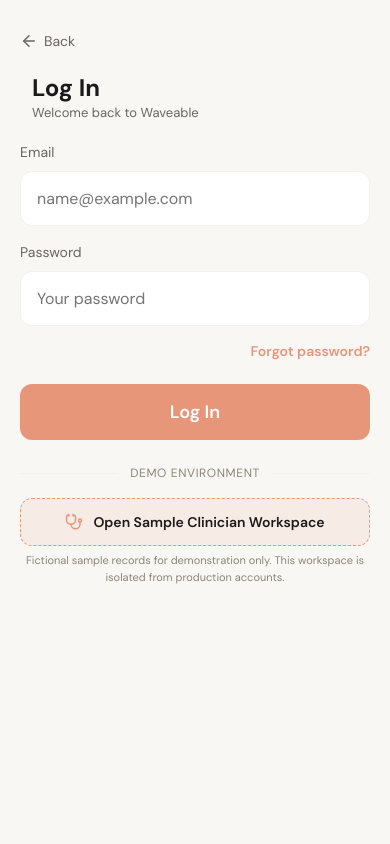
Scenario: Login password reset › points a login lockout to the visible reset action
Type "person@example.test" into the field labelled "Email".
click(195, 199); type("person@example.test")  # box [20,171,370,226]
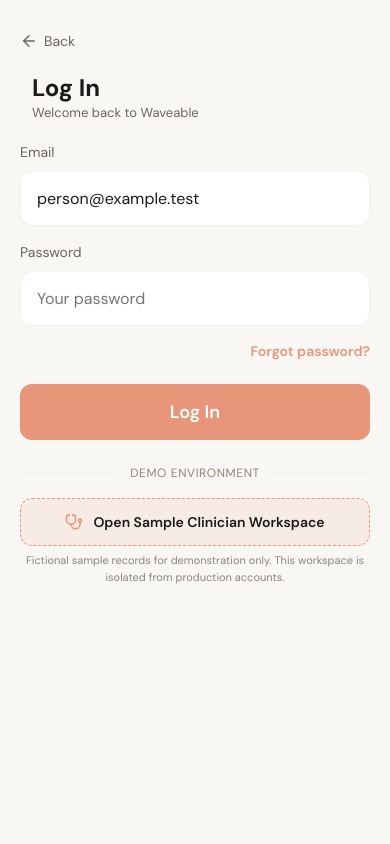
Type "wrong" into the password field labelled "Password".
click(195, 299); type("wrong")  # box [20,271,370,326]
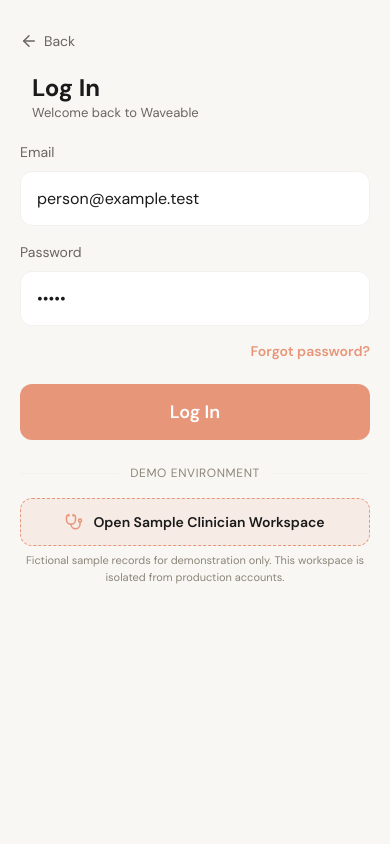
Submit the form, box [20,142,370,440]
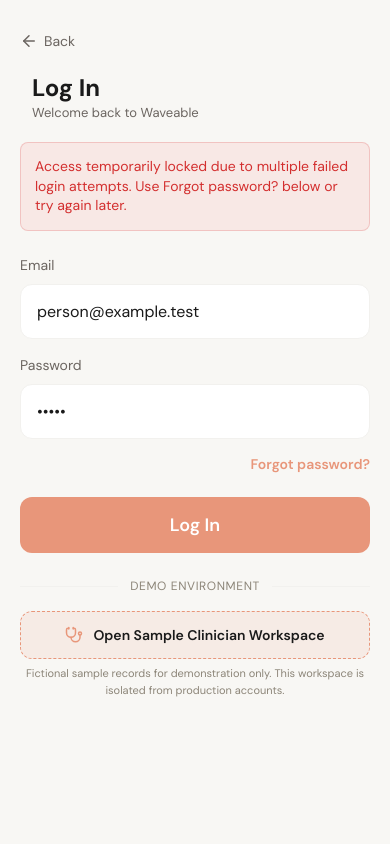
Expected: the message shows "Forgot password?", [35,157,348,214]
Click the button "Forgot password?".
click(310, 464)  # box [250,455,370,473]
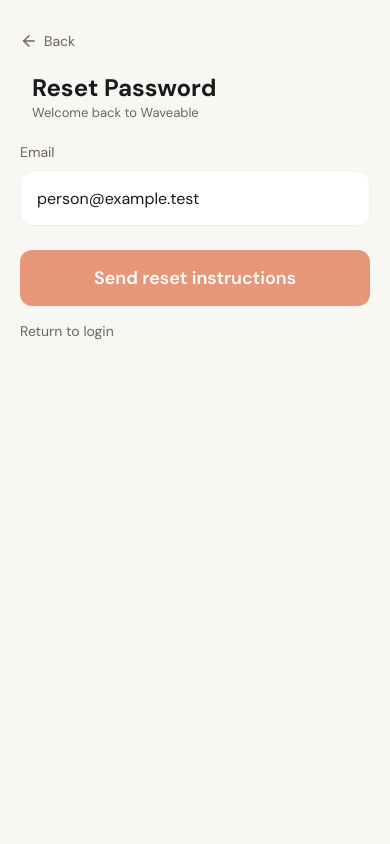
Expected: no messages are shown
